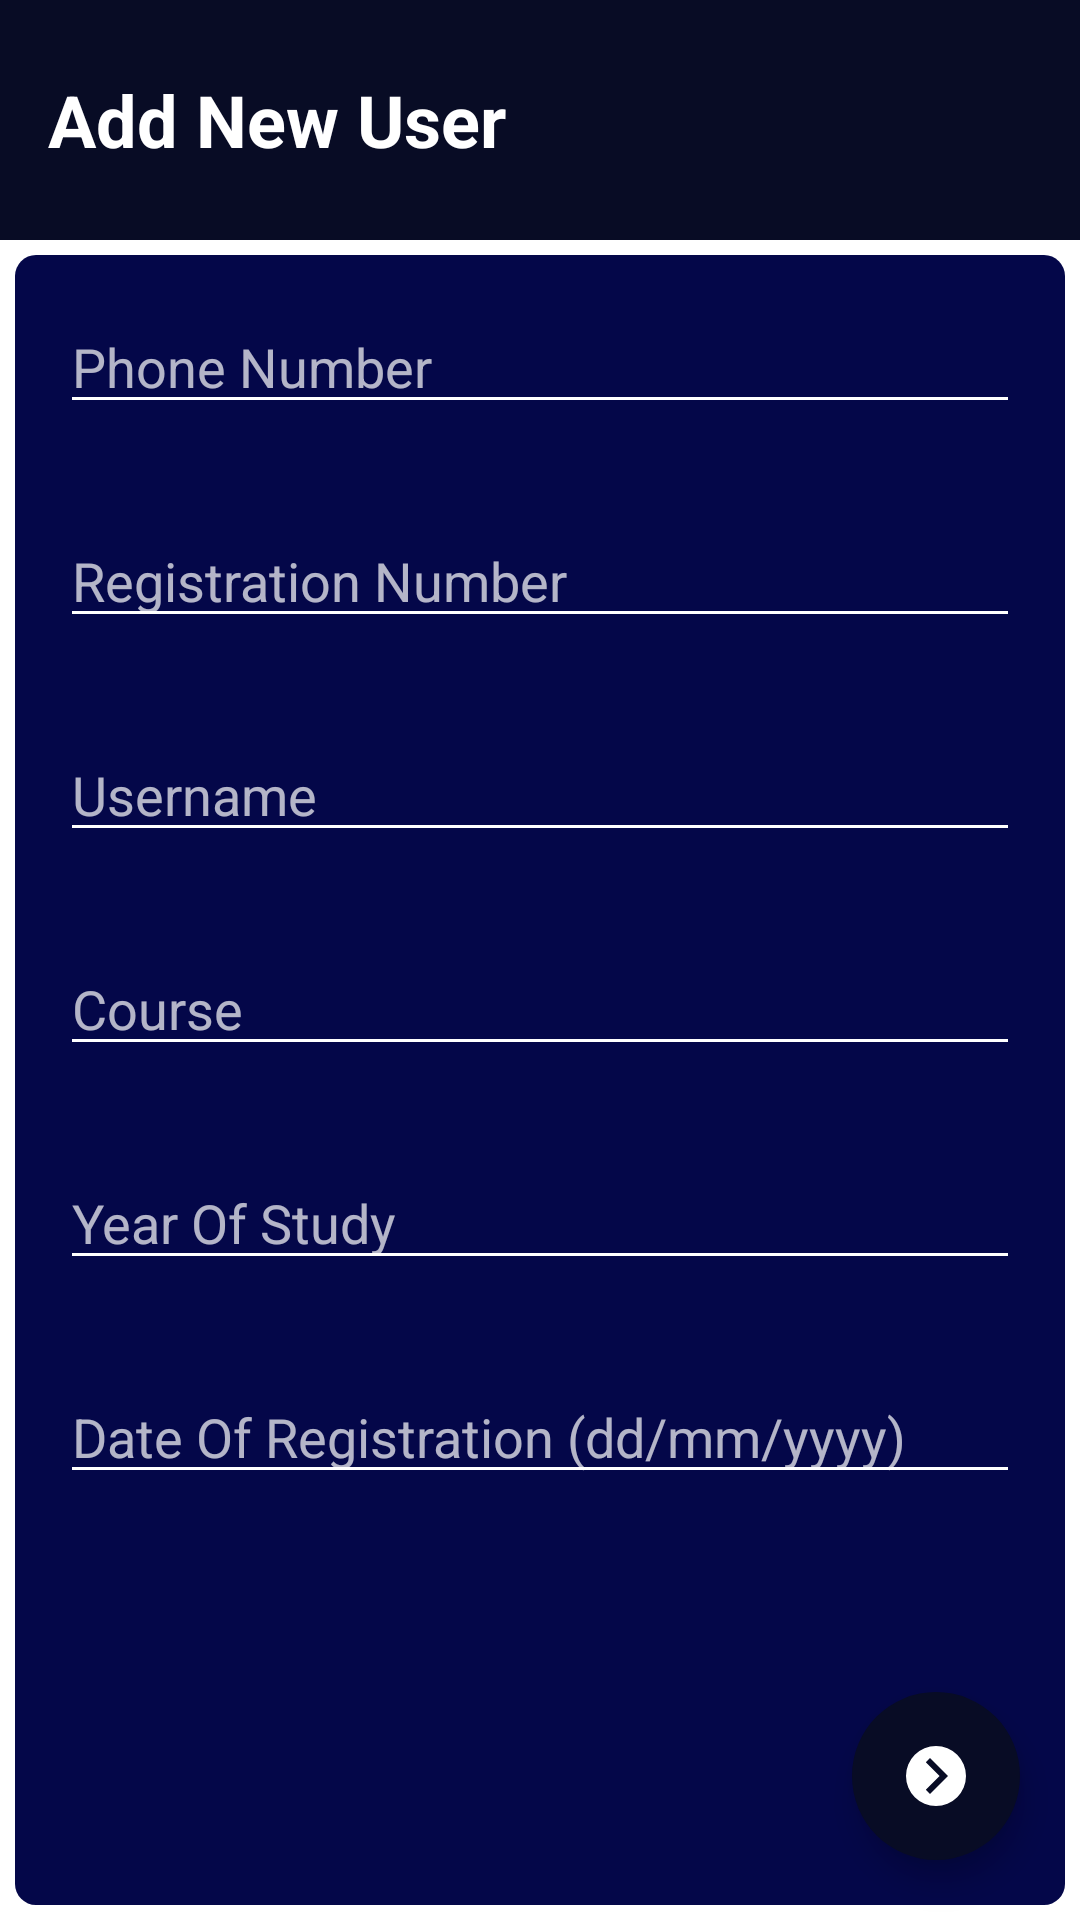

Screen size 1080×1920. Icon name, then its center in pixels as [x,y]:
chevron right circle: [936,1776]
